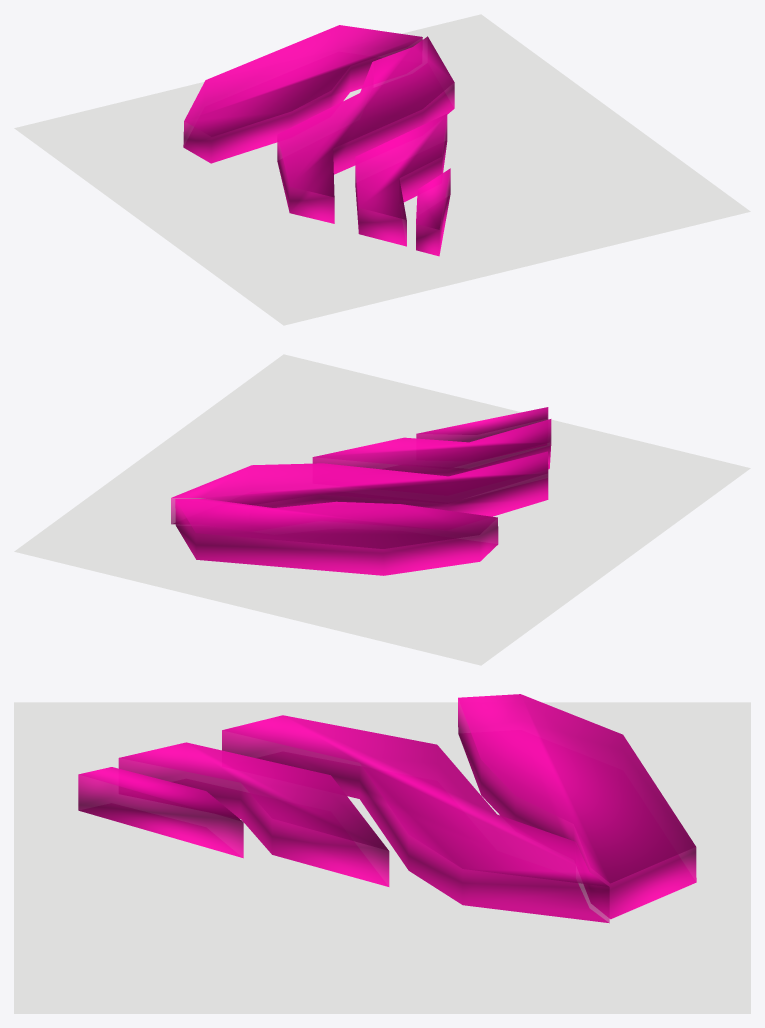
3 renders of one model, top to bottom at view 1: azimuth 30°, elevation 25°; view 2: azimuth 150°, elevation 25°; view 3: azimuth 270°, elevation 25°, orthographic. The views are drawn at different scales.
Visible parts, largest first — view 1: plain light background shadow plane, top shard, middle main shard, lower medium shard, bottom small pointed shard; view 2: plain light background shadow plane, top shard, middle main shard, lower medium shard, bottom small pointed shard; view 3: plain light background shadow plane, middle main shard, top shard, lower medium shard, bottom small pointed shard.
Boxes of the visible parts, box(x1,y1,x2,y2) form: plain light background shadow plane: box(14, 14, 750, 325); top shard: box(183, 25, 422, 163); middle main shard: box(277, 36, 454, 223); lower medium shard: box(355, 114, 447, 246); bottom small pointed shard: box(416, 168, 450, 256); plain light background shadow plane: box(14, 354, 750, 665); top shard: box(175, 499, 498, 575); middle main shard: box(171, 451, 548, 524); lower medium shard: box(312, 419, 551, 476); bottom small pointed shard: box(416, 407, 548, 442); plain light background shadow plane: box(14, 702, 750, 1013); middle main shard: box(222, 715, 609, 923); top shard: box(458, 694, 696, 919); lower medium shard: box(118, 742, 389, 886); bottom small pointed shard: box(78, 767, 243, 858).
Size of the model in its own units: 13 by 1.28 by 13.
